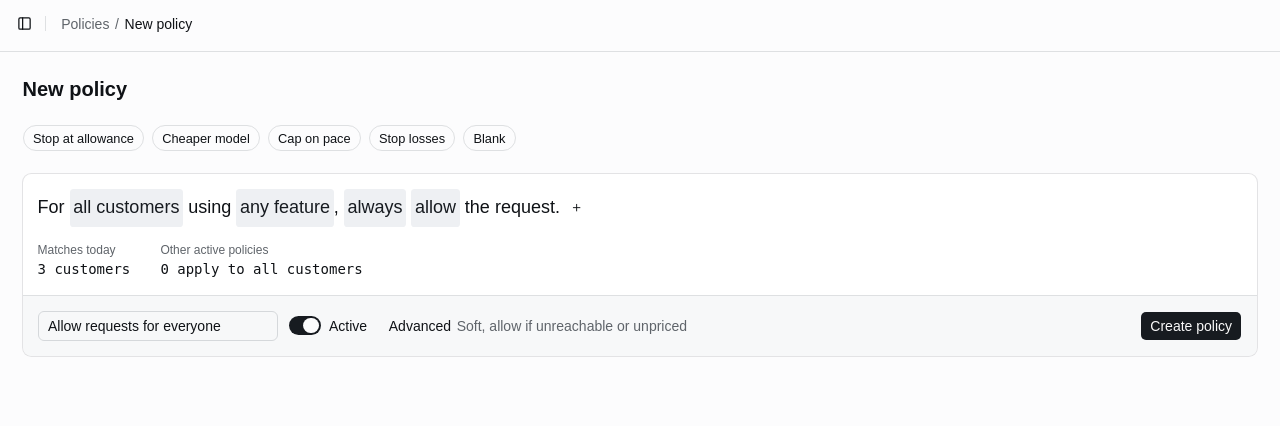
Test: a 422 at a condition value underlines that blank and lists the message
Click the button "Stop at allowance" at (83, 138), box [22,125,144,151]
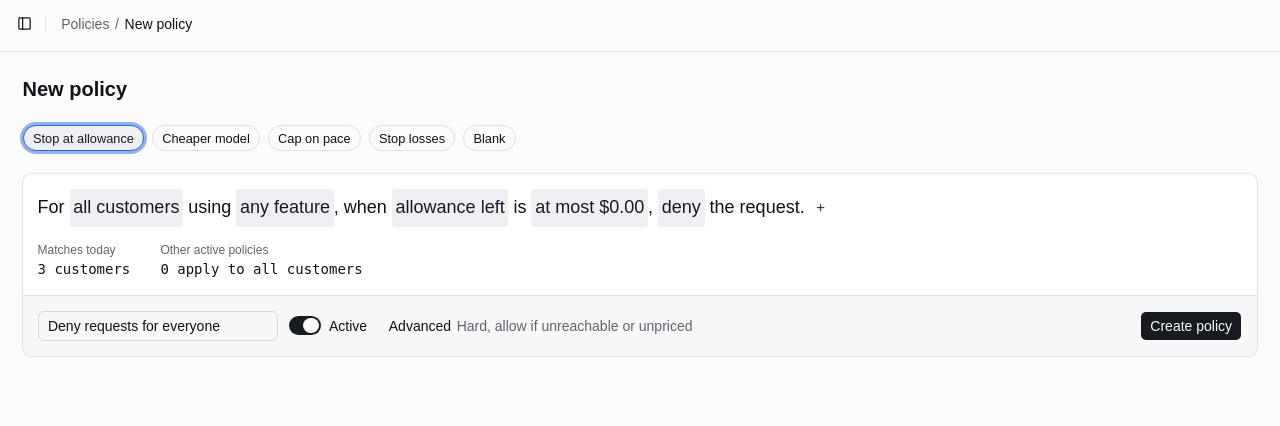
Click the button "Create policy" at (1191, 326), box [1140,310,1242,341]
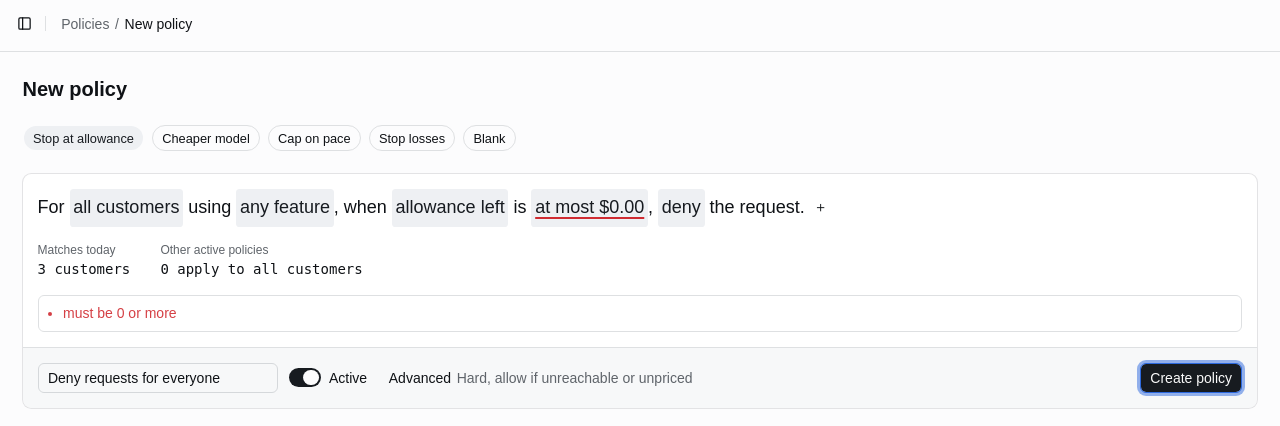
Now the list item "must be 0 or more" is shown, box [63,305,177,321]
